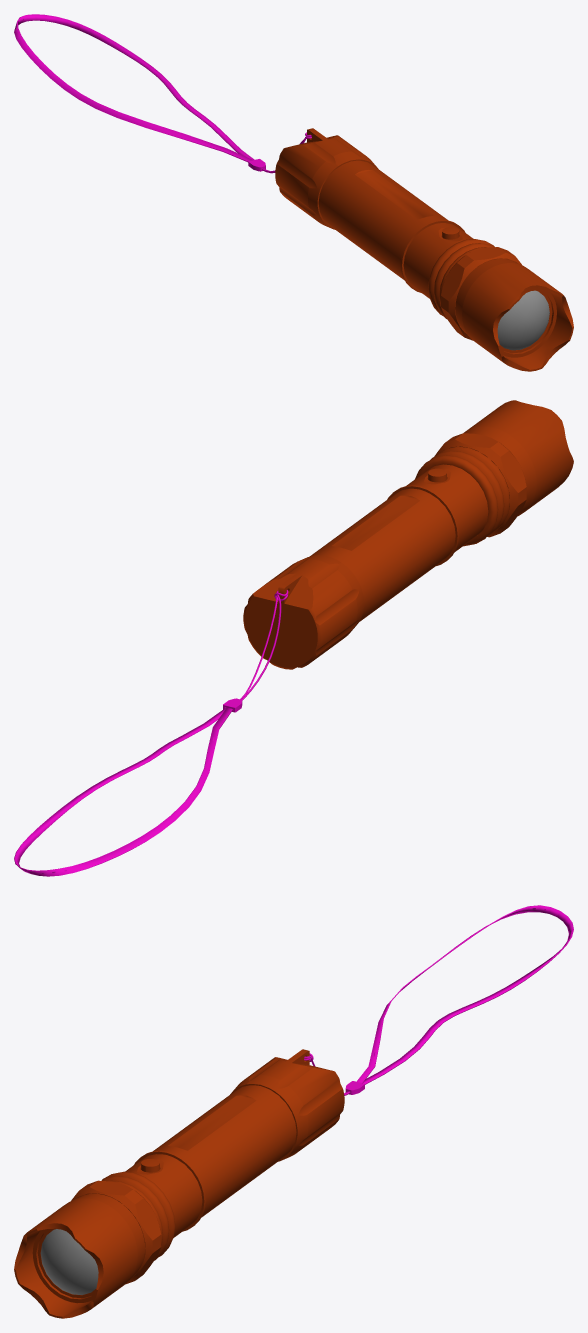
Rendered from Linterna.fbx.
3 views of the same model, one above another, from view 1: azimuth 30°, elevation 25°; view 2: azimuth 150°, elevation 25°; view 3: azimuth 330°, elevation 25° (orthographic). The views are drawn at different scales.
Visible parts, largest first — view 1: p7_lo, p1_lo, p10_lo, p13_lo, p3_lo, p5_lo, p6_lo, p2_lo; view 2: p7_lo, p10_lo, p1_lo, p13_lo, p6_lo, p5_lo, p12_lo; view 3: p7_lo, p1_lo, p10_lo, p3_lo, p13_lo, p5_lo, p6_lo, p2_lo, p9_lo.
Boxes of the visible parts, box(x1,y1,x2,y2) form: p7_lo: box(318, 160, 473, 298); p1_lo: box(455, 258, 573, 371); p10_lo: box(275, 128, 378, 229); p13_lo: box(14, 14, 254, 162); p3_lo: box(497, 290, 549, 350); p5_lo: box(441, 247, 521, 340); p6_lo: box(428, 239, 494, 318); p2_lo: box(499, 290, 556, 357); p7_lo: box(310, 464, 488, 621); p10_lo: box(243, 555, 364, 669); p1_lo: box(463, 400, 573, 516); p13_lo: box(14, 707, 233, 876); p6_lo: box(415, 446, 509, 546); p5_lo: box(434, 433, 526, 537); p12_lo: box(240, 590, 288, 700); p7_lo: box(125, 1085, 296, 1237); p1_lo: box(14, 1193, 145, 1318); p10_lo: box(230, 1049, 344, 1161); p3_lo: box(40, 1229, 98, 1294); p13_lo: box(357, 905, 573, 1084); p5_lo: box(71, 1180, 161, 1283); p6_lo: box(101, 1171, 175, 1260); p2_lo: box(32, 1228, 96, 1303); p9_lo: box(134, 1150, 205, 1231).
Bounding box in the file's own units: 423 × 301 × 3187.
